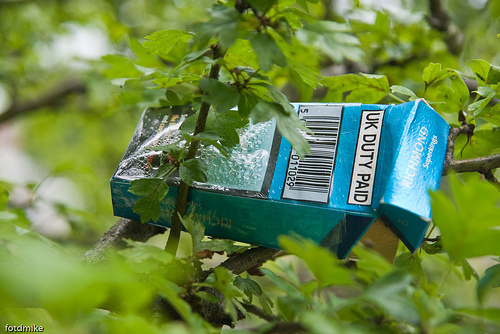litter: (106, 100, 449, 256)
